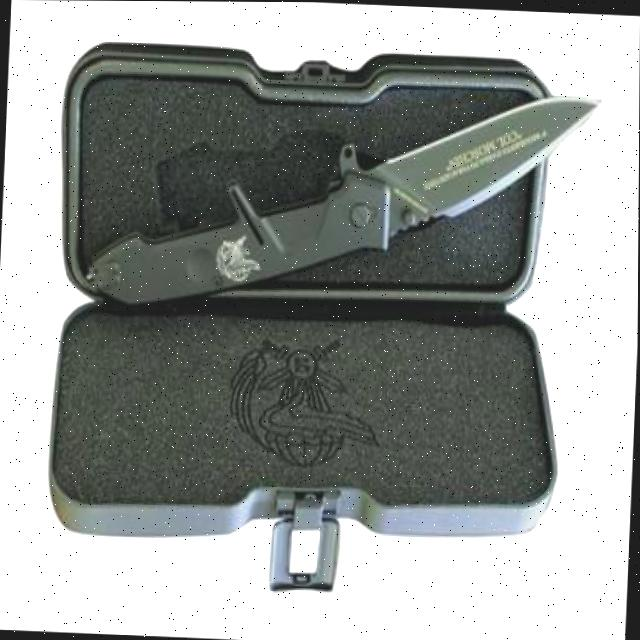knife: (85, 72, 605, 326)
